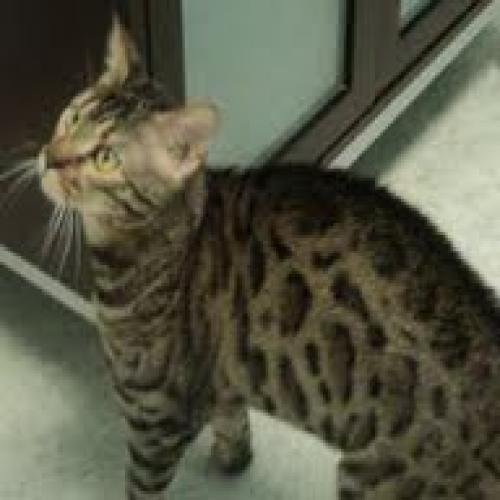cat-face: (25, 36, 211, 233)
